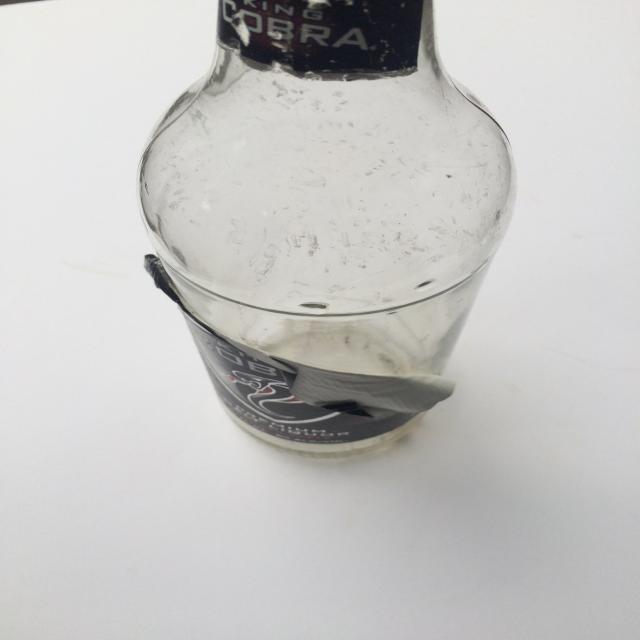glass: (130, 2, 516, 464)
